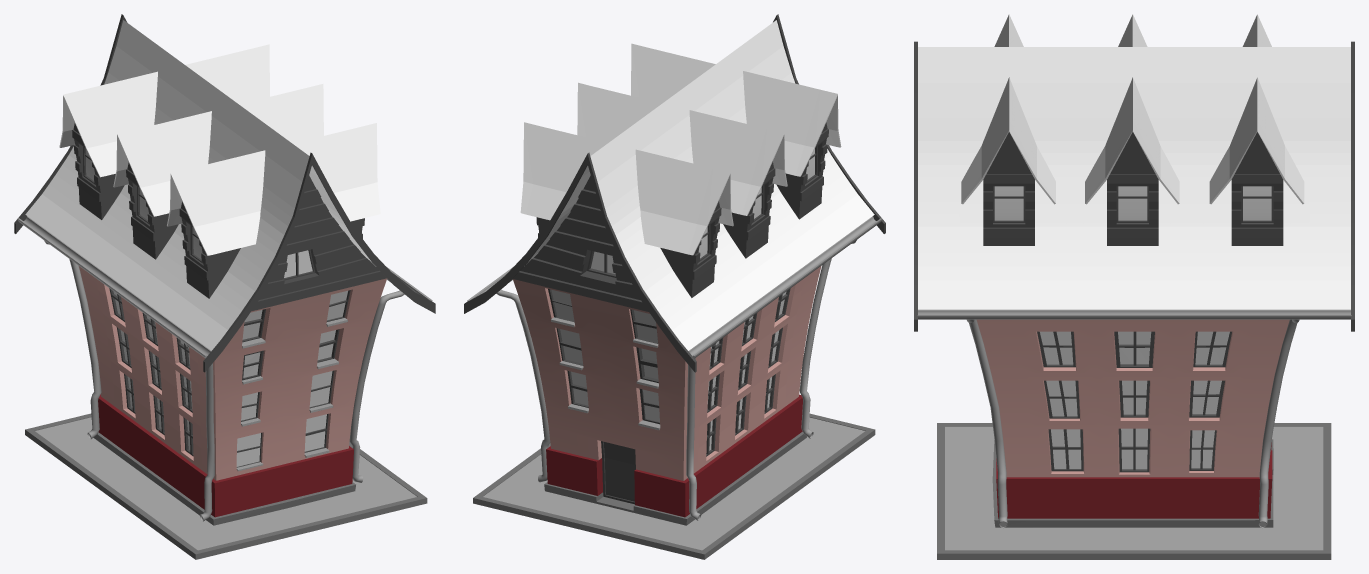
The model's file is Casa6000.FBX.
The picture shows the model from 3 angles, left to right: view 1: azimuth 30°, elevation 25°; view 2: azimuth 150°, elevation 25°; view 3: azimuth 270°, elevation 25°; orthographic projection. The views are drawn at different scales.
Visible parts, largest first — view 1: Cartoon_House; view 2: Cartoon_House; view 3: Cartoon_House.
Boxes of the visible parts, box(x1,y1,x2,y2) form: Cartoon_House: box(14, 14, 435, 559); Cartoon_House: box(464, 14, 885, 559); Cartoon_House: box(914, 14, 1354, 559).
Bounding box in the file's own units: 3.61 × 5.75 × 5.13.
